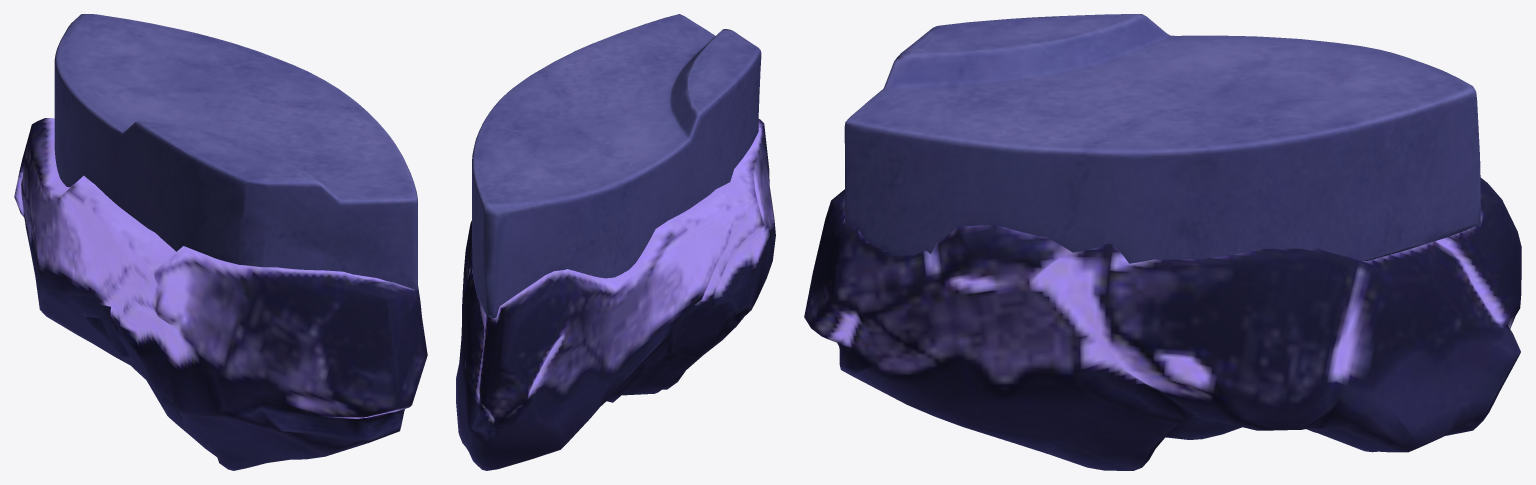
File: sky_rock_02a3_nexus.glb
3 views of the same model, side by side, from view 1: azimuth 30°, elevation 25°; view 2: azimuth 150°, elevation 25°; view 3: azimuth 270°, elevation 25° (orthographic). The views are drawn at different scales.
Visible parts, largest first — view 1: rock_02a3; view 2: rock_02a3; view 3: rock_02a3.
Boxes of the visible parts, bbox=[...] form: rock_02a3: bbox=[14, 14, 427, 470]; rock_02a3: bbox=[456, 14, 775, 470]; rock_02a3: bbox=[804, 14, 1521, 470].
Size of the model in its own units: 13.93 by 19.24 by 31.51.
1 material, 1 textured.
